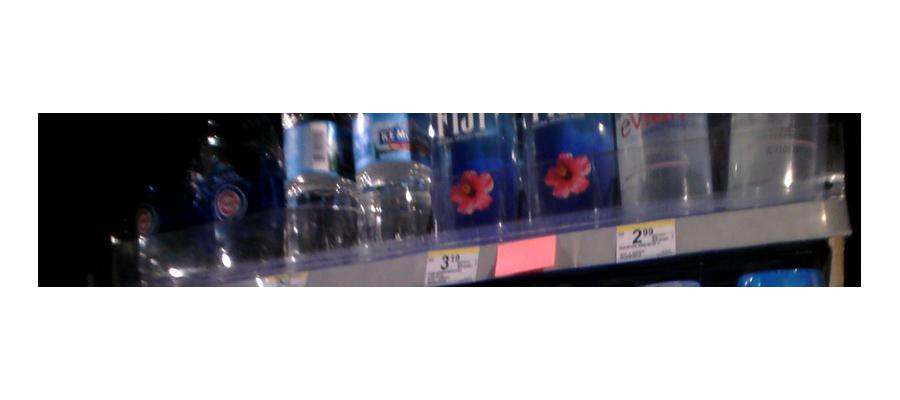bottle: (349, 115, 429, 251), (433, 114, 520, 238), (131, 153, 211, 287), (279, 111, 351, 256), (529, 110, 619, 225), (197, 117, 252, 277), (625, 102, 702, 215)
